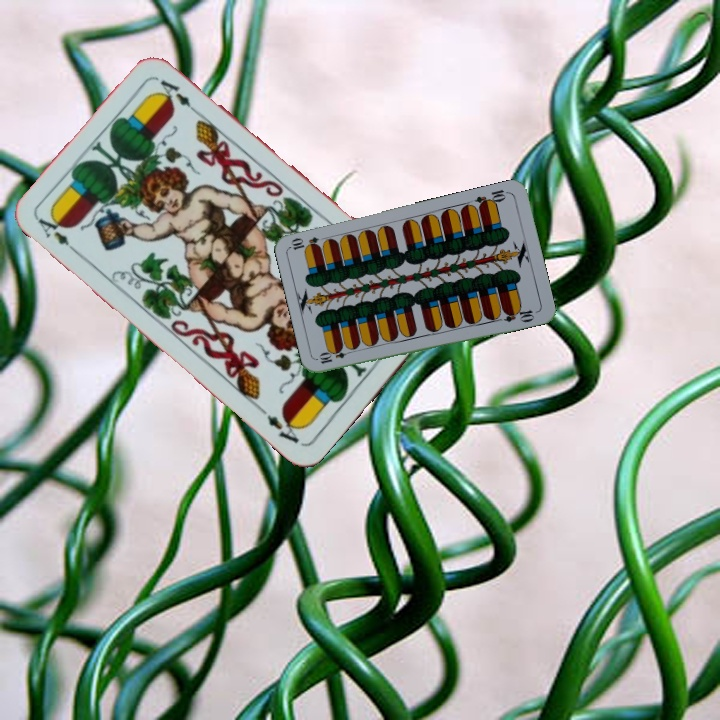E10: (471, 185, 511, 211), (315, 345, 355, 366)
EA: (34, 210, 82, 258)
